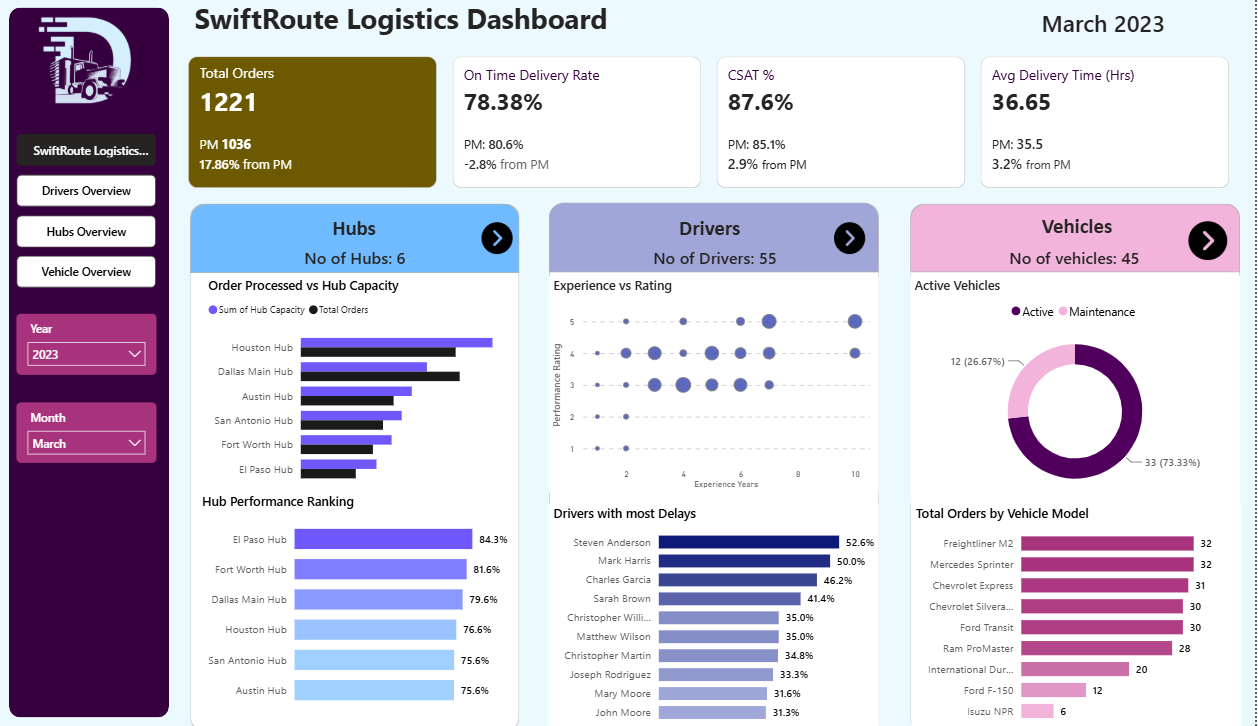

What the dashboard file says about the page in this screenshot:
{"tool":"powerbi","page":{"name":"SwiftRoute Logistics Dashboard","canvas":[1450,850],"ordinal":0},"visuals":[{"type":"shape","box":[11.5,14.4,184.8,820],"z":0},{"type":"textbox","box":[220.7,0,503.6,60.6],"z":1000},{"type":"cardVisual","fields":{"Data":["Orders.Total Orders","Orders.On Time Delivery Rate","Orders.CSAT %","Orders.Avg Delivery Time (Hrs)"]},"box":[213,60.6,1212.5,167.9],"z":2000},{"type":"slicer","fields":{"Values":["Date Table.Year"]},"box":[20.2,368.1,161.7,70.7],"z":3000},{"type":"slicer","fields":{"Values":["Date Table.Month"]},"box":[20.2,470.4,161.7,70],"z":4000},{"type":"shape","box":[221.4,241.4,380,609],"z":5000},{"type":"shape","box":[221.4,241.4,380,80],"z":6000},{"type":"textbox","box":[352.9,250,115.7,40],"z":7000},{"type":"cardVisual","fields":{"Data":["Hubs.No of Hubs"]},"box":[724.7,261.3,190.6,52],"z":8000},{"type":"clusteredBarChart","title":"Order Processed vs Hub Capacity","fields":{"Category":["Hubs.HubName"],"Y":["Sum(Hubs.Hub Capacity)","Orders.Total Orders"]},"box":[237.1,324.3,350,250],"z":9000},{"type":"barChart","title":"Hub Performance Ranking","fields":{"Category":["Hubs.HubName"],"Y":["Orders.On Time Delivery Rate"]},"box":[230,574.3,364.3,260],"z":10000},{"type":"shape","box":[635.2,241.1,381.1,609.2],"z":11000},{"type":"shape","box":[635.8,239.4,380.8,80.8],"z":12000},{"type":"shape","box":[1052.4,240.9,380.8,609.4],"z":13000},{"type":"shape","box":[1052.4,240.9,380.8,79.3],"z":14000},{"type":"textbox","box":[781,248.3,116.9,39],"z":15000},{"type":"cardVisual","fields":{"Data":["Hubs.No of Hubs"]},"box":[316.2,261.3,190.6,82.3],"z":16000},{"type":"cardVisual","fields":{"Data":["Drivers.No of Drivers"]},"box":[731.9,261.3,190.6,82.3],"z":17000},{"type":"textbox","box":[762.2,249.7,116.9,40.4],"z":18000},{"type":"scatterChart","title":"Experience vs Rating","fields":{"X":["Drivers.Experience Years"],"Y":["Drivers.Performance Rating"],"Size":["Sum(Drivers.Experience Years)1"]},"box":[635.2,324.8,381.1,249.7],"z":19000},{"type":"barChart","title":"Drivers with most Delays","fields":{"Category":["Drivers.DriverName"],"Y":["Orders.Delayed Delivery Rate"]},"box":[635.2,587.6,381.1,262.7],"z":20000},{"type":"cardVisual","fields":{"Data":["Vehicles.No of Vehicles"]},"box":[1142.5,261.2,200.5,80.8],"z":21000},{"type":"textbox","box":[1186.1,247.2,116.6,40.4],"z":22000},{"type":"donutChart","title":"Active Vehicles","fields":{"Category":["Vehicles.Vehicle Status"],"Y":["CountNonNull(Vehicles.Vehicle ID)"]},"box":[1052.4,324.9,380.8,262.7],"z":23000},{"type":"barChart","fields":{"Category":["Vehicles.Vehicle Model"],"Y":["Orders.Total Orders"]},"box":[1053.9,587.6,380.8,262.7],"z":24000},{"type":"image","box":[23.3,14,153.9,130.6],"z":25000},{"type":"cardVisual","fields":{"Data":["Orders.Year Month Title"]},"box":[1142.5,0,267.4,60.6],"z":26000},{"type":"image","box":[964.3,258.4,36.1,44.8],"z":27000},{"type":"image","box":[557.2,258.4,36.1,44.8],"z":28000},{"type":"pageNavigator","box":[20.2,160.2,161.7,181.9],"z":29000},{"type":"image","box":[1365.7,261.3,60.6,44.8],"z":30000}]}

Visuals, with their boxes on the page's 1450x850 design canvas (x1, y1, x2, y2). These are canvas units, not pixel positions in the 1258x726 screenshot, which may show the page scaled, cropped or inside an application window:
shape: pyautogui.locateOnScreen(12, 14, 196, 834)
textbox: pyautogui.locateOnScreen(221, 0, 724, 61)
cardVisual - Orders.Total Orders x Orders.On Time Delivery Rate: pyautogui.locateOnScreen(213, 61, 1426, 228)
slicer - Date Table.Year: pyautogui.locateOnScreen(20, 368, 182, 439)
slicer - Date Table.Month: pyautogui.locateOnScreen(20, 470, 182, 540)
shape: pyautogui.locateOnScreen(221, 241, 601, 850)
shape: pyautogui.locateOnScreen(221, 241, 601, 321)
textbox: pyautogui.locateOnScreen(353, 250, 469, 290)
cardVisual - Hubs.No of Hubs: pyautogui.locateOnScreen(725, 261, 915, 313)
"Order Processed vs Hub Capacity" clusteredBarChart: pyautogui.locateOnScreen(237, 324, 587, 574)
"Hub Performance Ranking" barChart: pyautogui.locateOnScreen(230, 574, 594, 834)
shape: pyautogui.locateOnScreen(635, 241, 1016, 850)
shape: pyautogui.locateOnScreen(636, 239, 1017, 320)
shape: pyautogui.locateOnScreen(1052, 241, 1433, 850)
shape: pyautogui.locateOnScreen(1052, 241, 1433, 320)
textbox: pyautogui.locateOnScreen(781, 248, 898, 287)
cardVisual - Hubs.No of Hubs: pyautogui.locateOnScreen(316, 261, 507, 344)
cardVisual - Drivers.No of Drivers: pyautogui.locateOnScreen(732, 261, 922, 344)
textbox: pyautogui.locateOnScreen(762, 250, 879, 290)
"Experience vs Rating" scatterChart: pyautogui.locateOnScreen(635, 325, 1016, 574)
"Drivers with most Delays" barChart: pyautogui.locateOnScreen(635, 588, 1016, 850)
cardVisual - Vehicles.No of Vehicles: pyautogui.locateOnScreen(1142, 261, 1343, 342)
textbox: pyautogui.locateOnScreen(1186, 247, 1303, 288)
"Active Vehicles" donutChart: pyautogui.locateOnScreen(1052, 325, 1433, 588)
barChart - Vehicles.Vehicle Model x Orders.Total Orders: pyautogui.locateOnScreen(1054, 588, 1435, 850)
image: pyautogui.locateOnScreen(23, 14, 177, 145)
cardVisual - Orders.Year Month Title: pyautogui.locateOnScreen(1142, 0, 1410, 61)
image: pyautogui.locateOnScreen(964, 258, 1000, 303)
image: pyautogui.locateOnScreen(557, 258, 593, 303)
pageNavigator: pyautogui.locateOnScreen(20, 160, 182, 342)
image: pyautogui.locateOnScreen(1366, 261, 1426, 306)
